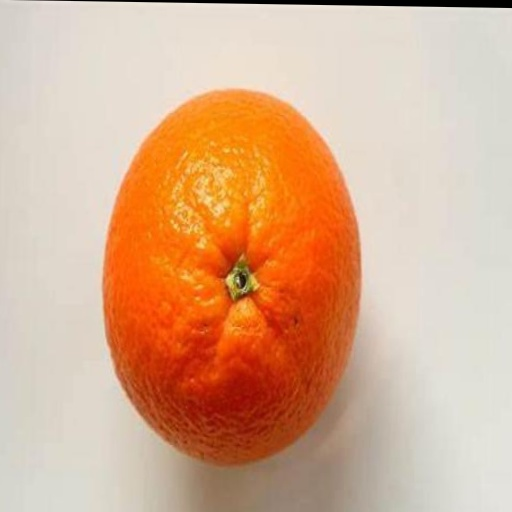fruit: (104, 91, 360, 463)
